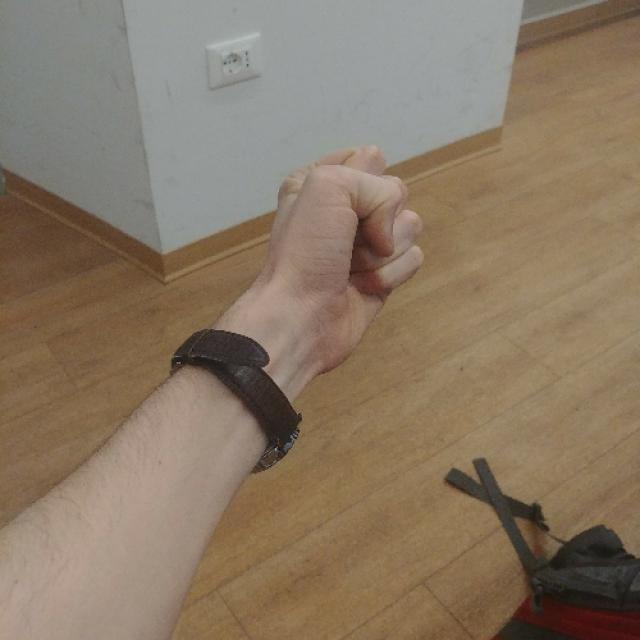rock: (270, 142, 426, 370)
